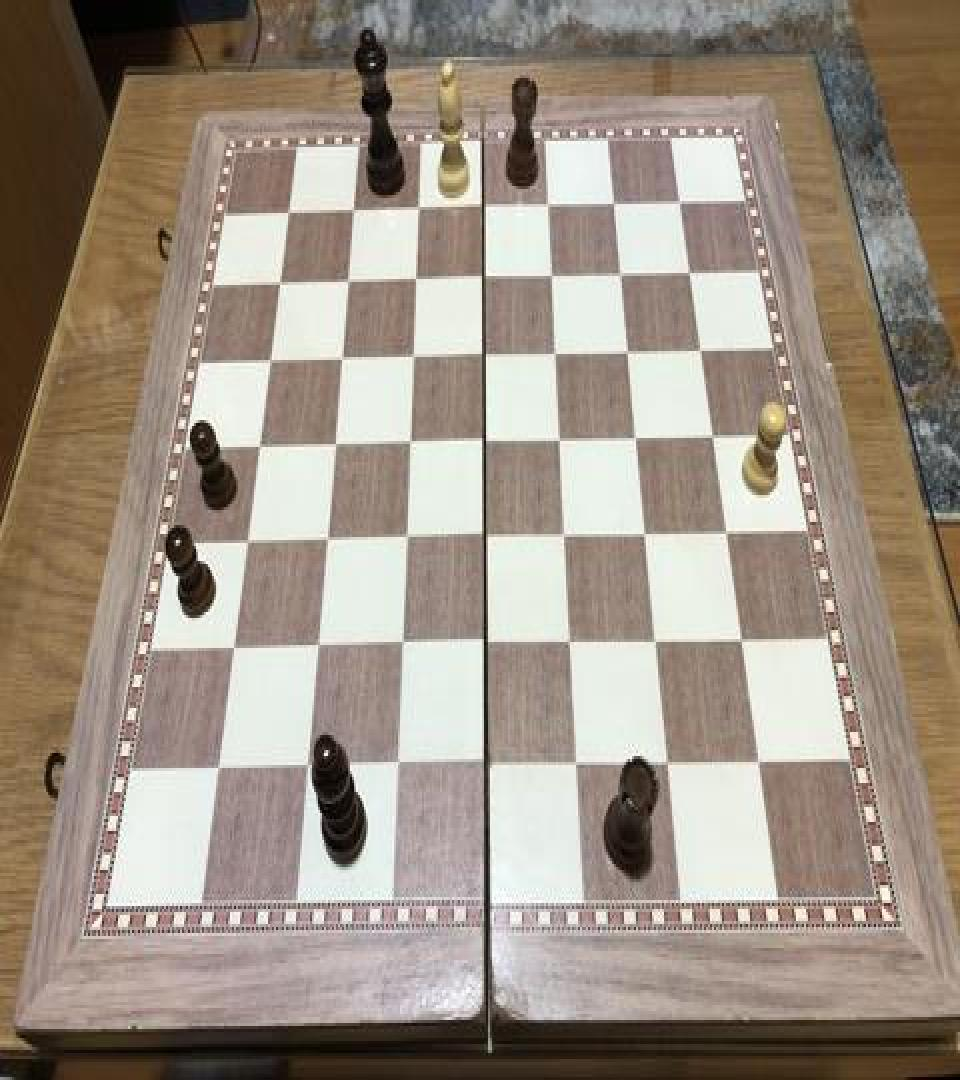xcorner: (634, 514, 658, 551), (234, 520, 258, 557), (731, 622, 755, 659), (645, 622, 669, 659), (389, 625, 413, 662), (294, 748, 318, 785), (205, 748, 229, 785), (667, 182, 691, 218), (602, 183, 626, 219), (536, 184, 560, 220), (471, 186, 495, 222), (341, 189, 365, 225), (277, 190, 301, 226), (678, 252, 702, 288), (609, 254, 633, 290), (540, 255, 564, 291), (471, 256, 495, 292), (403, 258, 427, 294), (268, 261, 292, 297), (689, 330, 713, 366), (616, 332, 640, 368), (544, 333, 568, 369), (472, 334, 496, 370), (400, 336, 424, 372), (329, 338, 353, 374), (258, 339, 282, 375), (701, 417, 725, 453), (625, 417, 649, 453), (548, 418, 572, 454), (472, 420, 496, 456), (397, 422, 421, 458), (322, 423, 346, 459), (247, 424, 271, 460), (716, 513, 740, 549), (554, 516, 578, 552), (473, 516, 497, 552), (393, 518, 417, 554), (313, 519, 337, 555), (559, 624, 583, 660), (474, 624, 498, 660), (304, 627, 328, 663), (220, 627, 244, 663), (749, 746, 773, 782), (657, 746, 681, 782), (566, 746, 590, 782), (475, 747, 499, 783), (384, 747, 408, 783), (406, 188, 430, 223), (335, 260, 359, 295)
